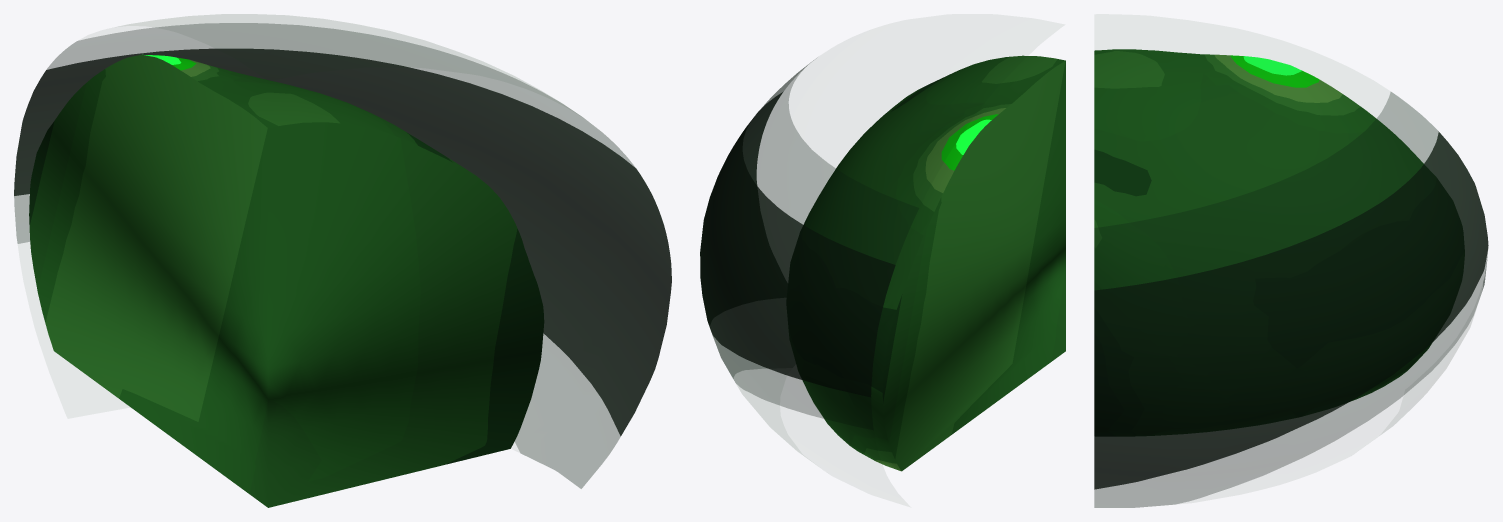
File: glass_globe_tr_163.glb
3 renders of one model, left to right at view 1: azimuth 30°, elevation 25°; view 2: azimuth 150°, elevation 25°; view 3: azimuth 270°, elevation 25°, orthographic. The views are drawn at different scales.
Visible parts, largest first — view 1: glass_globe_tr; view 2: glass_globe_tr; view 3: glass_globe_tr.
Boxes of the visible parts, x1,y1,x2,y2 form: glass_globe_tr: (14, 14, 671, 507); glass_globe_tr: (700, 55, 1065, 471); glass_globe_tr: (1094, 49, 1488, 507).
Size of the model in its own units: 21.9 by 25.09 by 23.86.
